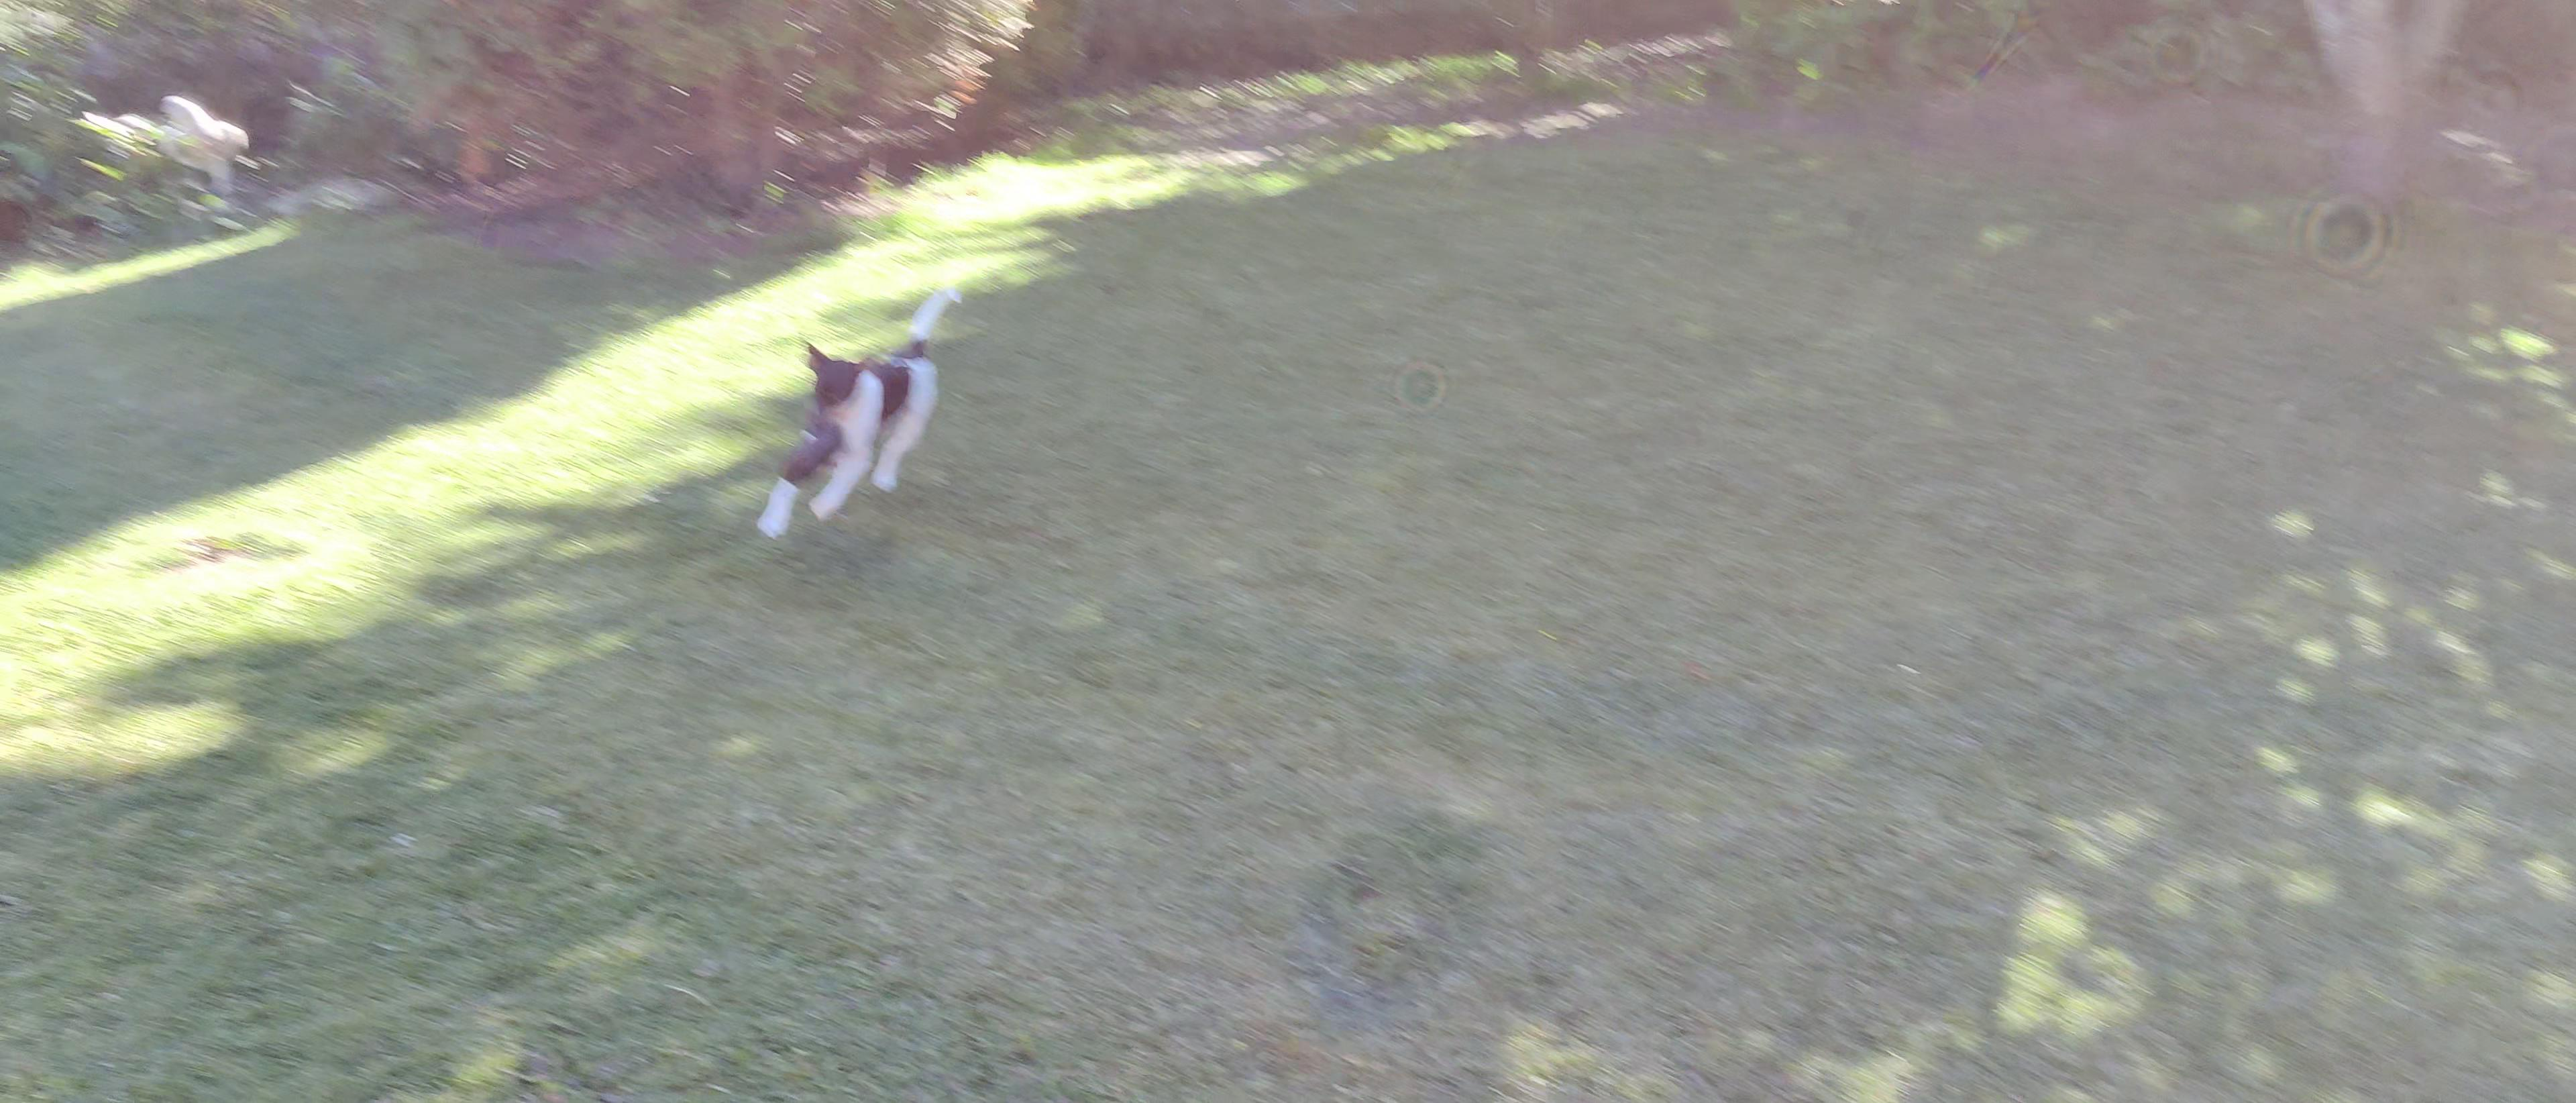Dog: (747, 279, 966, 547)
